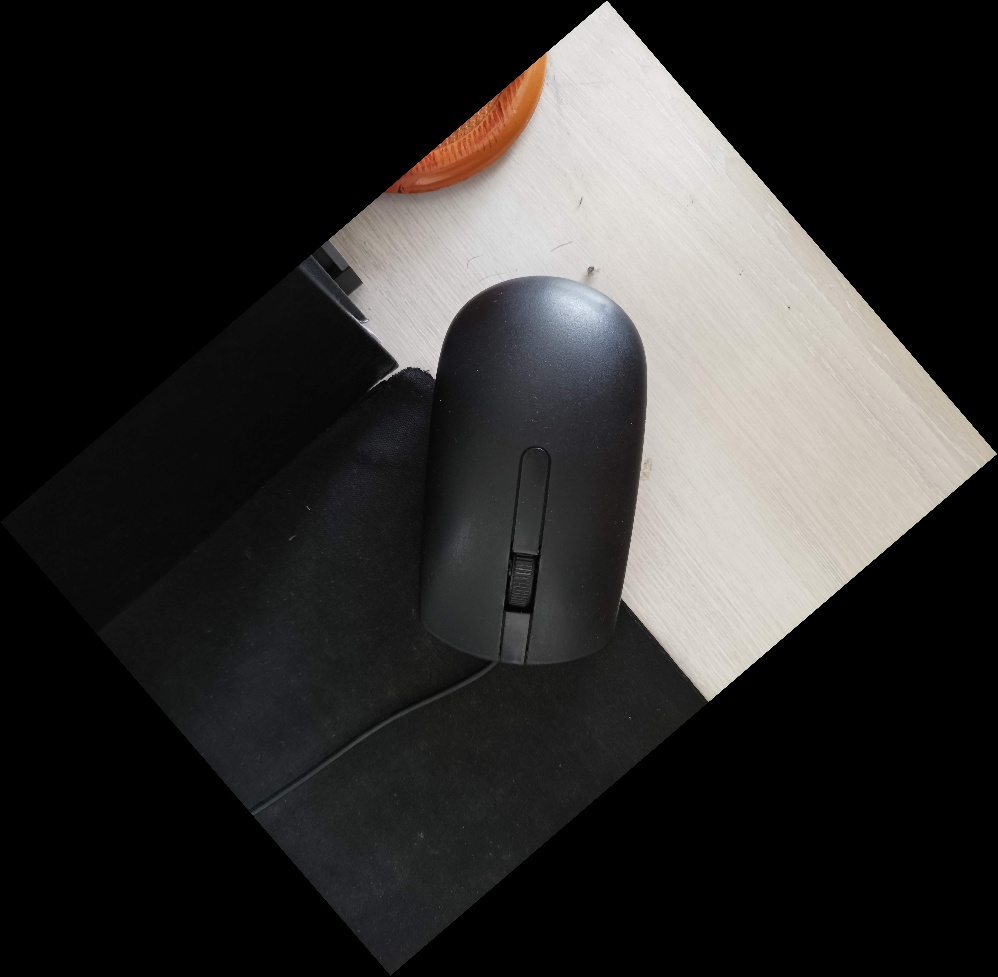mouse: (412, 268, 653, 671)
